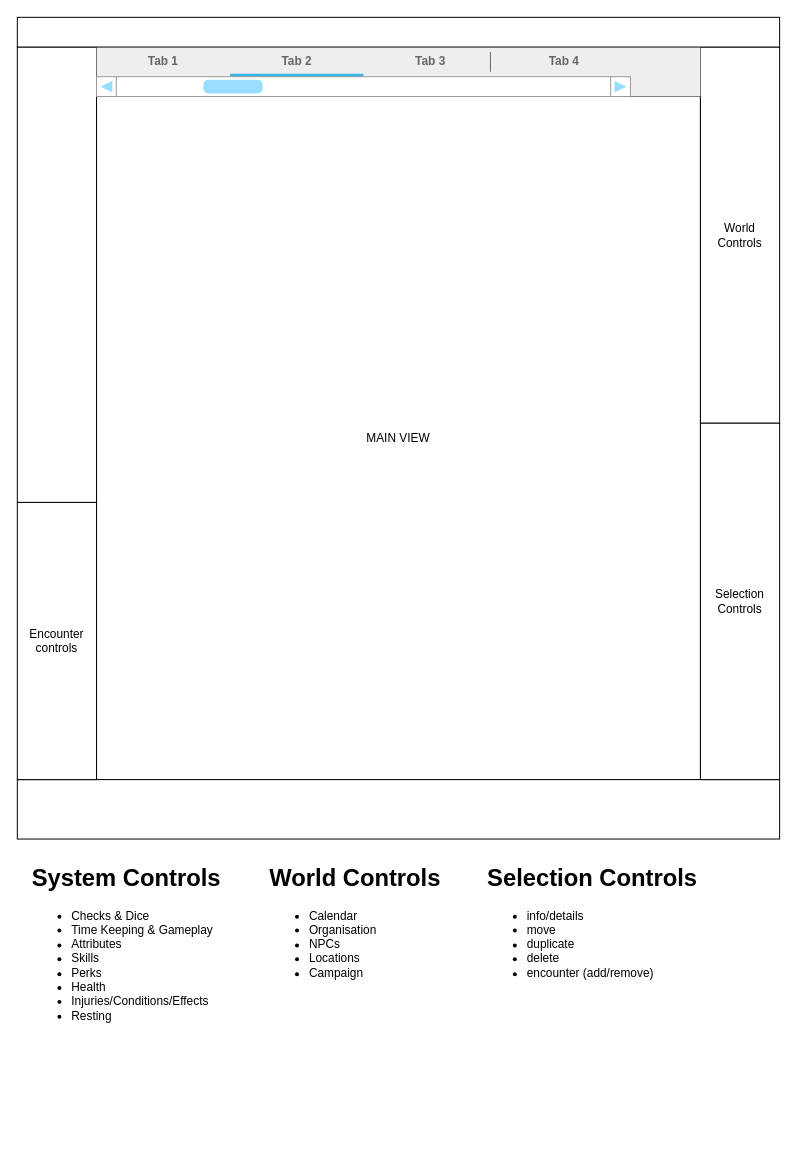
Some shapes in this 797 by 1173 pixel diagram are drawn without their labels. Here are the shapes that lost their labels. From the top down, the centre of each, then its label:
At point 398,31: "App controls ???".
At point 56,274: "Game system controls".
At point 398,809: "Logs & Chat".
